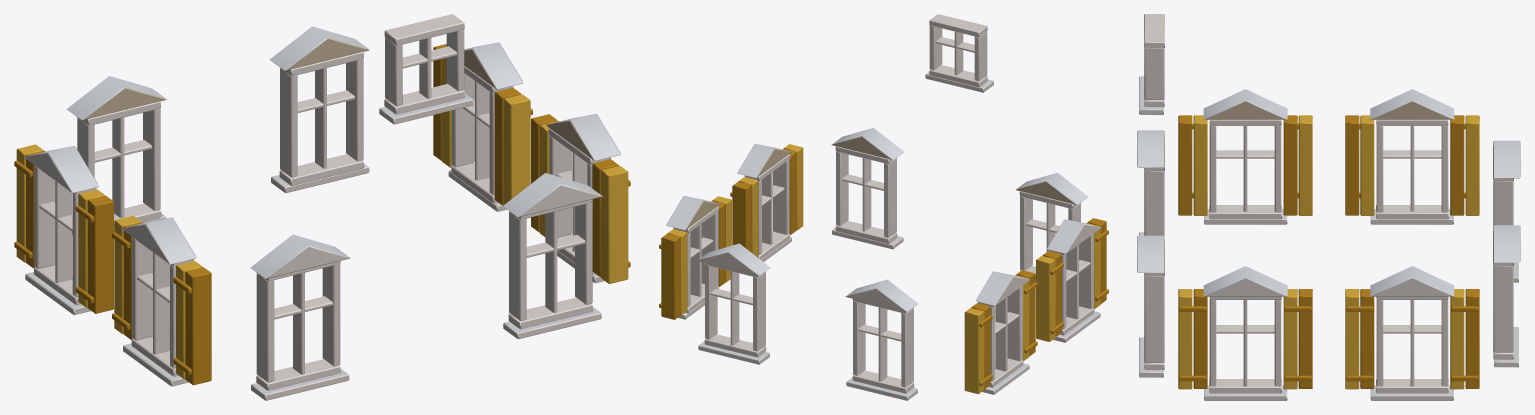
The model's file is CandyHouse_Lavender_Trim.glb.
The picture shows the model from 3 angles, left to right: view 1: azimuth 30°, elevation 25°; view 2: azimuth 150°, elevation 25°; view 3: azimuth 270°, elevation 25°; orthographic projection. The views are drawn at different scales.
Visible parts, largest first — view 1: CandyHouse_Lavender_Trim; view 2: CandyHouse_Lavender_Trim; view 3: CandyHouse_Lavender_Trim.
Part boxes in pixels (x1,y1,x2,y2): CandyHouse_Lavender_Trim: (14,14,630,400); CandyHouse_Lavender_Trim: (659,14,1108,400); CandyHouse_Lavender_Trim: (1137,14,1520,400).
Bounding box in the file's own units: 21.4 × 14.81 × 18.4.
